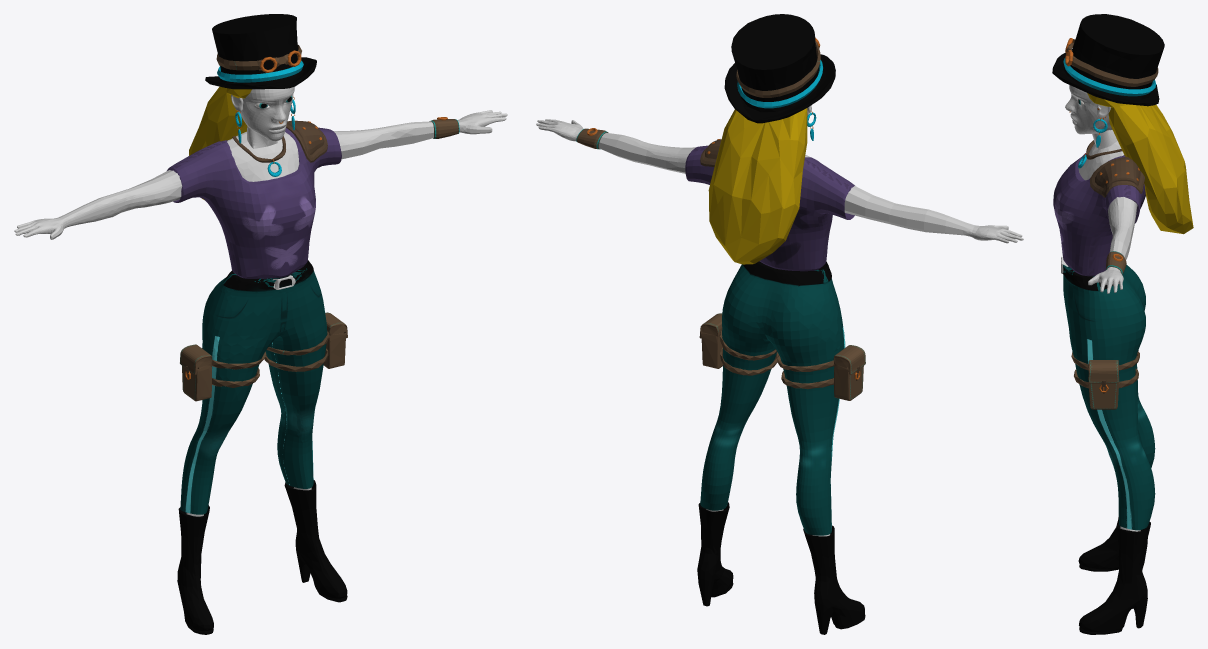
File: SteamPunkGirlBrush.fbx
3 renders of one model, left to right at view 1: azimuth 30°, elevation 25°; view 2: azimuth 150°, elevation 25°; view 3: azimuth 270°, elevation 25°, orthographic. The views are drawn at different scales.
Visible parts, largest first — view 1: steampunkGirl3, steampunkGirl8, steampunkGirl59, steampunkGirl11, steampunkGirl9, steampunkGirl10, steampunkGirl40, steampunkGirl4, steampunkGirl48, steampunkGirl32, steampunkGirl47, steampunkGirl12; view 2: steampunkGirl3, steampunkGirl40, steampunkGirl11, steampunkGirl59, steampunkGirl8, steampunkGirl10, steampunkGirl9, steampunkGirl48, steampunkGirl47, steampunkGirl33, steampunkGirl12; view 3: steampunkGirl3, steampunkGirl40, steampunkGirl11, steampunkGirl8, steampunkGirl9, steampunkGirl59, steampunkGirl47, steampunkGirl32, steampunkGirl4, steampunkGirl10, steampunkGirl33, steampunkGirl12 (+4 smaller).
Boxes of the visible parts, x1,y1,x2,y2 form: steampunkGirl3: [180, 260, 327, 514]; steampunkGirl8: [167, 127, 341, 278]; steampunkGirl59: [14, 110, 507, 516]; steampunkGirl11: [205, 14, 316, 89]; steampunkGirl9: [284, 480, 347, 602]; steampunkGirl10: [177, 505, 213, 634]; steampunkGirl40: [189, 86, 251, 199]; steampunkGirl4: [239, 87, 294, 141]; steampunkGirl48: [180, 344, 212, 401]; steampunkGirl32: [286, 120, 327, 162]; steampunkGirl47: [323, 312, 347, 368]; steampunkGirl12: [217, 60, 303, 82]; steampunkGirl3: [700, 261, 845, 535]; steampunkGirl40: [708, 108, 807, 264]; steampunkGirl11: [724, 14, 835, 123]; steampunkGirl59: [536, 119, 1023, 536]; steampunkGirl8: [685, 145, 854, 271]; steampunkGirl10: [803, 525, 865, 634]; steampunkGirl9: [697, 502, 733, 606]; steampunkGirl48: [833, 345, 865, 400]; steampunkGirl47: [699, 313, 722, 368]; steampunkGirl33: [736, 40, 820, 97]; steampunkGirl12: [737, 60, 822, 108]; steampunkGirl3: [1061, 256, 1155, 530]; steampunkGirl40: [1087, 93, 1193, 234]; steampunkGirl11: [1052, 14, 1164, 106]; steampunkGirl8: [1053, 153, 1145, 276]; steampunkGirl9: [1079, 521, 1150, 634]; steampunkGirl59: [1078, 141, 1140, 531]; steampunkGirl47: [1088, 360, 1119, 409]; steampunkGirl32: [1089, 157, 1144, 197]; steampunkGirl4: [1065, 85, 1112, 134]; steampunkGirl10: [1078, 516, 1147, 571]; steampunkGirl33: [1071, 39, 1158, 86]; steampunkGirl12: [1063, 58, 1156, 96].
Bounding box in the file's own units: 146 × 168 × 37.34.
